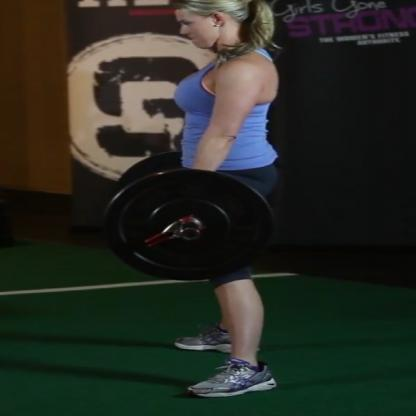barbell: (106, 150, 273, 282)
